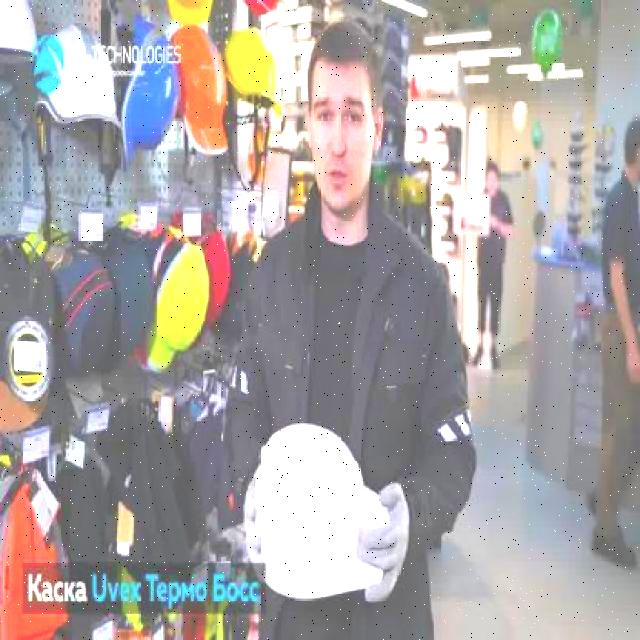Gloves: (356, 480, 410, 606), (243, 483, 268, 585)
Helmet: (252, 422, 390, 604), (33, 22, 121, 132), (122, 12, 180, 170), (172, 23, 230, 156), (227, 23, 284, 116), (0, 0, 45, 65)
